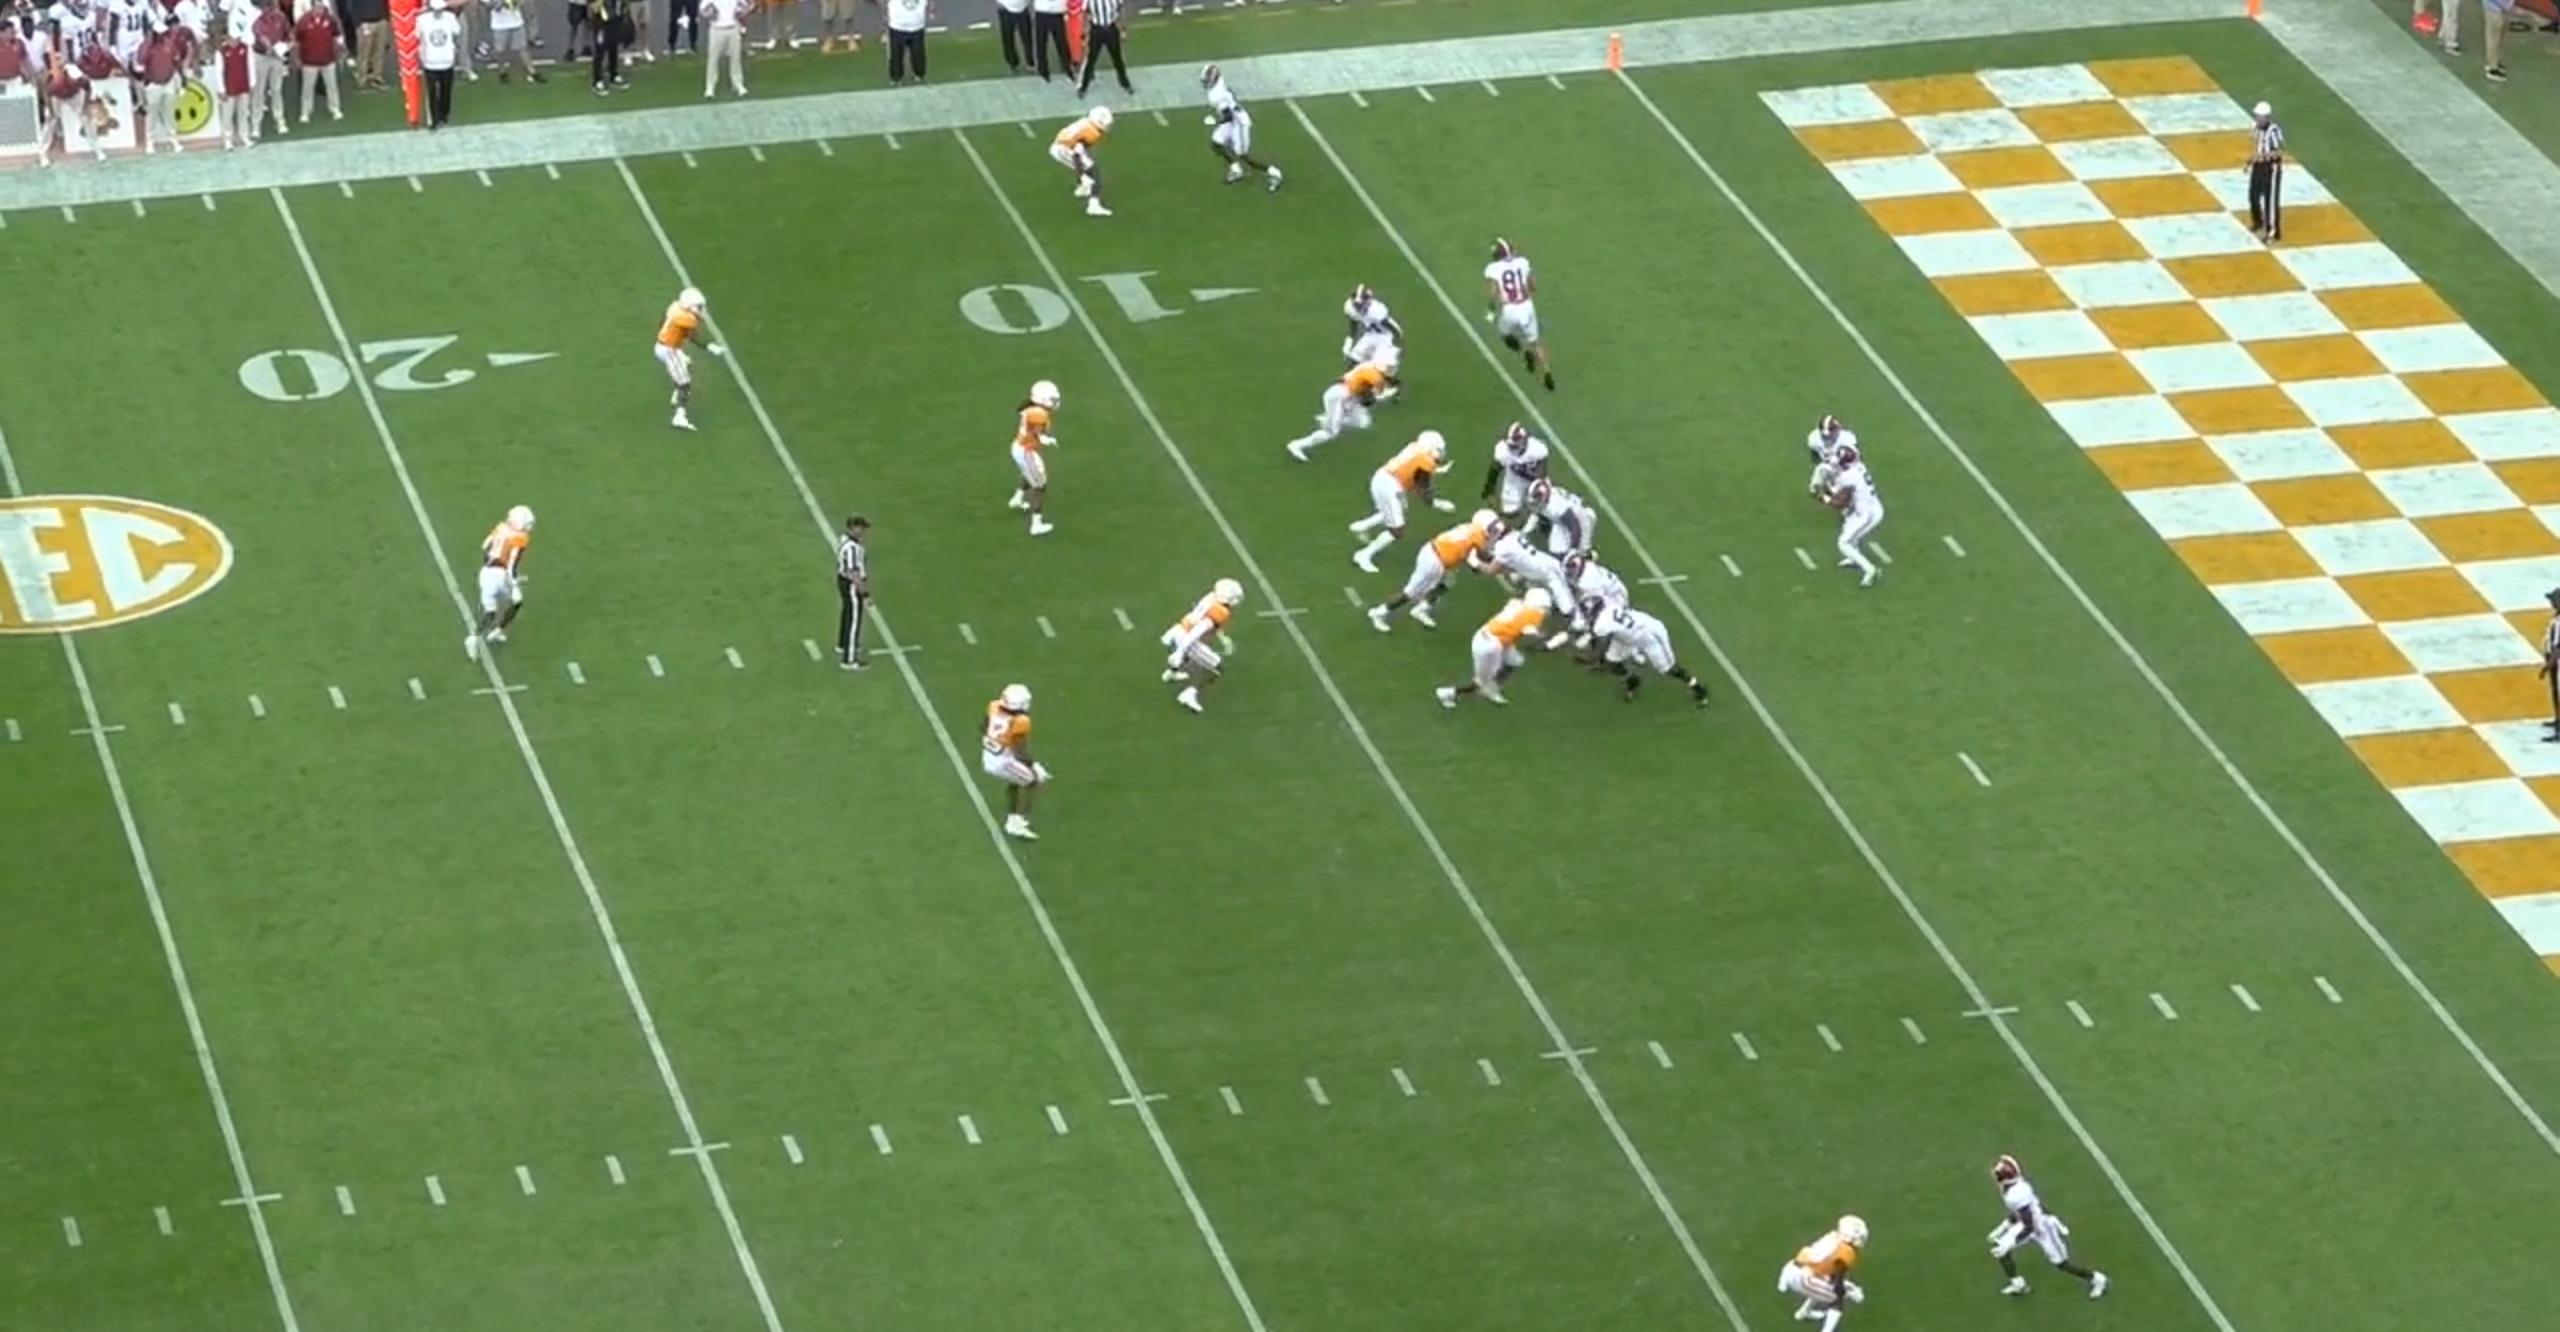defense: (1421, 587, 1559, 718), (1346, 425, 1465, 575), (1361, 509, 1498, 638), (1273, 345, 1397, 465), (1160, 574, 1248, 729), (459, 504, 538, 672), (970, 682, 1046, 856), (1768, 1208, 1866, 1332), (994, 376, 1062, 550), (657, 281, 728, 438), (1048, 98, 1121, 218)
oline: (1578, 594, 1708, 713), (1564, 550, 1642, 669), (1478, 520, 1570, 609), (1475, 418, 1549, 526), (1526, 476, 1608, 567)
qb: (1812, 449, 1891, 591)
ref: (828, 521, 884, 687), (2235, 93, 2289, 247), (1080, 2, 1146, 103), (2543, 584, 2560, 751)
skill: (1983, 1151, 2125, 1308), (1197, 66, 1294, 203), (1471, 234, 1553, 396), (1329, 276, 1404, 401), (1793, 411, 1852, 531)
